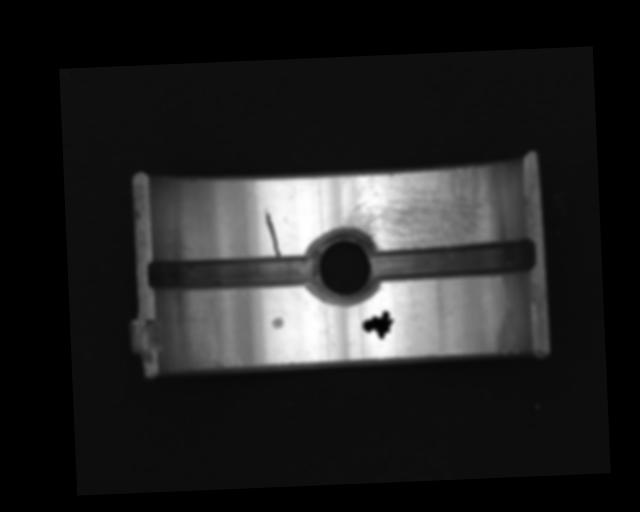blot: (360, 310, 395, 340)
bruise: (270, 316, 284, 329)
gap: (145, 250, 317, 293), (369, 239, 536, 281)
hole: (307, 227, 380, 307)
nick: (262, 205, 280, 258)
scratch: (341, 164, 497, 253)
